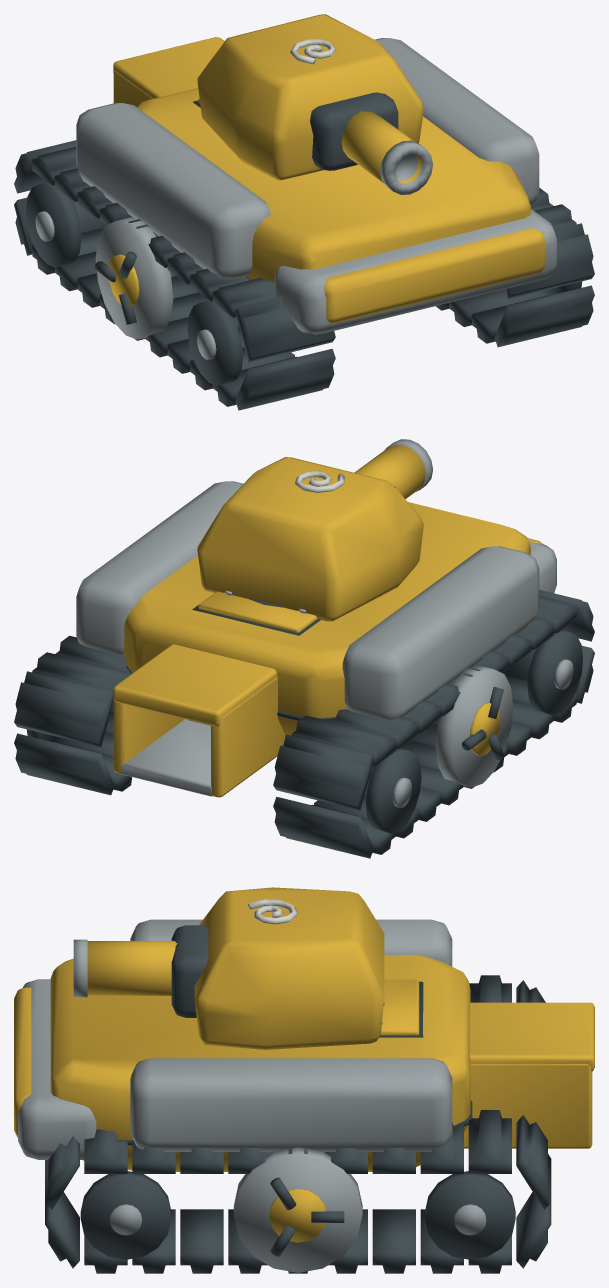
The model's file is TOY_MINER.lo.glb.
The picture shows the model from 3 angles, top to bottom: view 1: azimuth 30°, elevation 25°; view 2: azimuth 150°, elevation 25°; view 3: azimuth 270°, elevation 25°; orthographic projection. The views are drawn at different scales.
Parts seen in each view (by area): view 1: Body, TurretYaw, WheelLeft, BarrelRecoil; view 2: Body, TurretYaw, WheelLeft, BarrelRecoil; view 3: Body, TurretYaw, WheelRight, BarrelRecoil.
Part boxes in pixels (x1,y1,x2,y2): Body: (14,37,594,410); TurretYaw: (197,14,423,180); WheelLeft: (94,217,173,339); BarrelRecoil: (341,111,432,194); Body: (14,481,594,858); TurretYaw: (197,457,423,621); WheelLeft: (435,665,513,787); BarrelRecoil: (354,439,432,498); Body: (14,919,594,1273); TurretYaw: (171,887,384,1049); WheelRight: (233,1147,362,1272); BarrelRecoil: (73,939,177,997).
Bounding box in the file's own units: 0.8048 × 0.5262 × 1.01.
